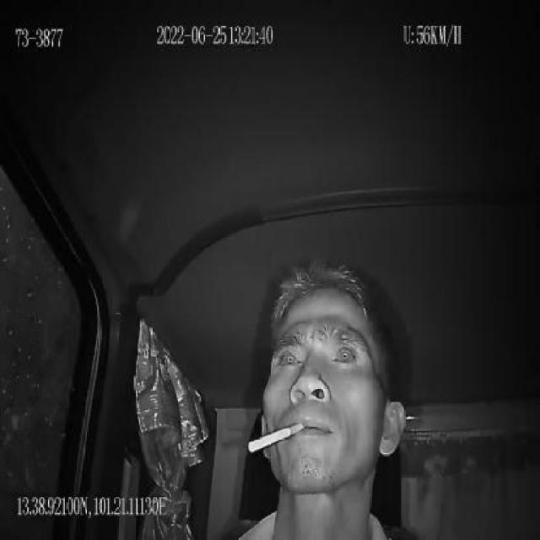smoking: (248, 418, 304, 456)
